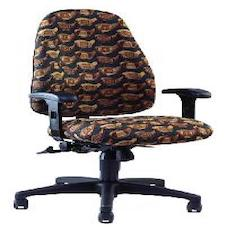chair: (23, 5, 213, 222)
